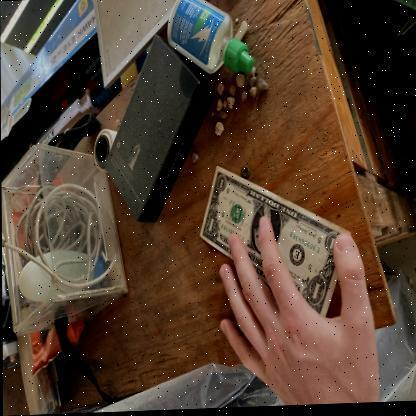one-front: (199, 165, 352, 323)
